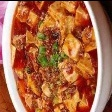mapodoufu: (9, 0, 101, 112)
